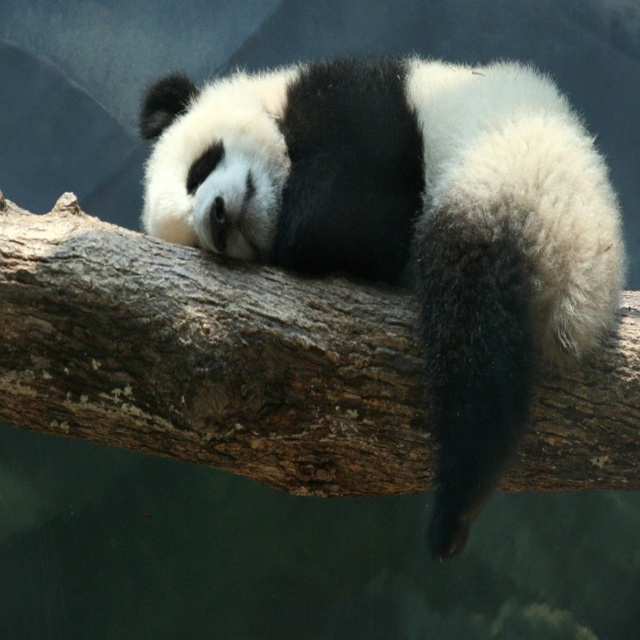Panda: (135, 51, 632, 562)
